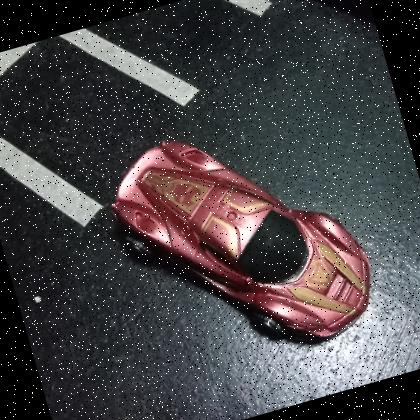Car: (92, 92, 389, 390)
